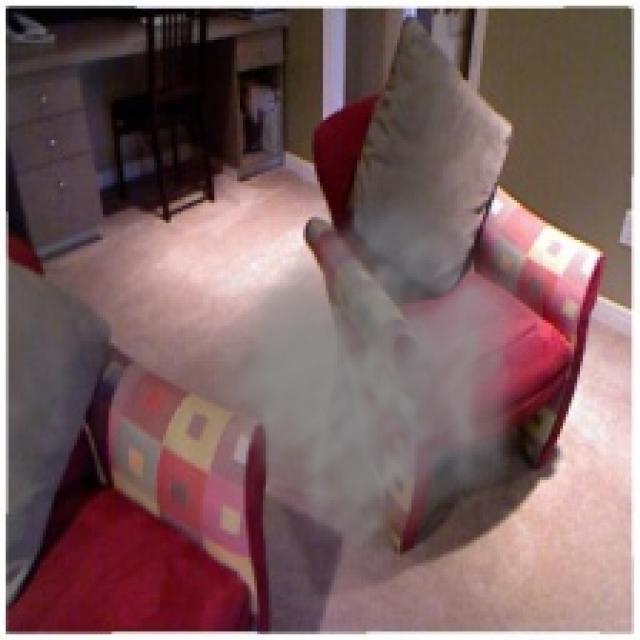Smoke: (171, 183, 543, 566)
